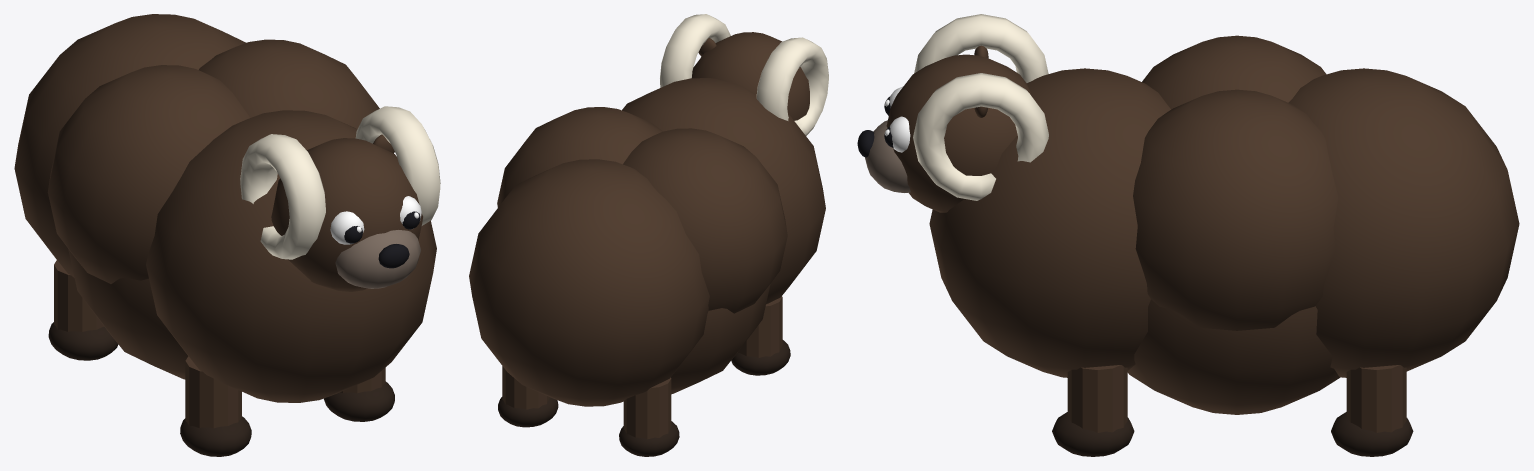
3 views of the same model, side by side, from view 1: azimuth 30°, elevation 25°; view 2: azimuth 150°, elevation 25°; view 3: azimuth 270°, elevation 25° (orthographic). The views are drawn at different scales.
Visible parts, largest first — view 1: Musk Ox; view 2: Musk Ox; view 3: Musk Ox.
Boxes of the visible parts, x1,y1,x2,y2 form: Musk Ox: (14, 14, 440, 456); Musk Ox: (469, 14, 828, 456); Musk Ox: (857, 14, 1519, 456).
Size of the model in its own units: 2.56 by 2.71 by 4.41.
Materials: 1 (1 with a texture image).
